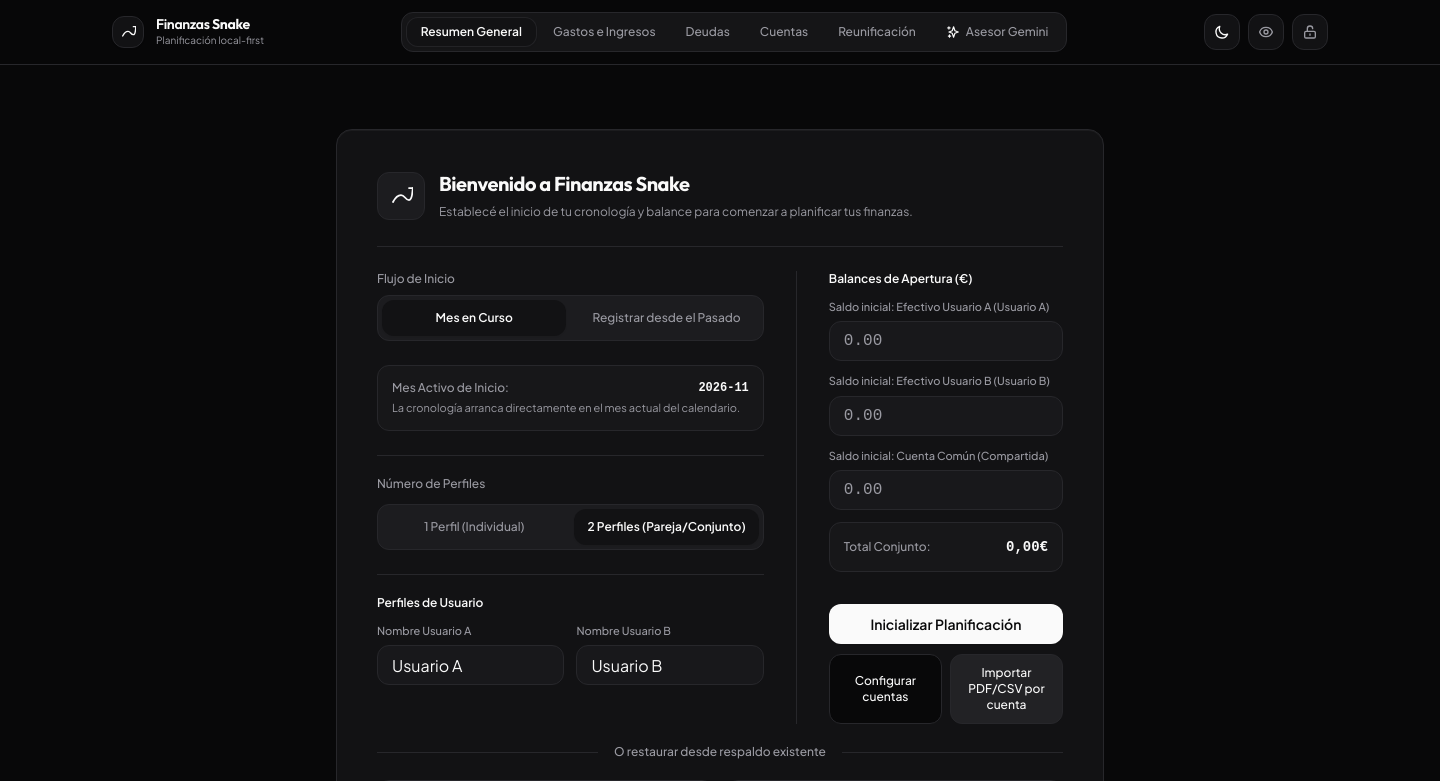
Scenario: configuración del PIN desde la interfaz › debe activar el cifrado conservando los datos que había en memoria
The image size is (1440, 781).
Expected: the heading "Bienvenido a Finanzas Snake" is shown, [439,171,690,196]
Click the button "Inicializar Planificación" at (946,624), box [829,604,1063,644]
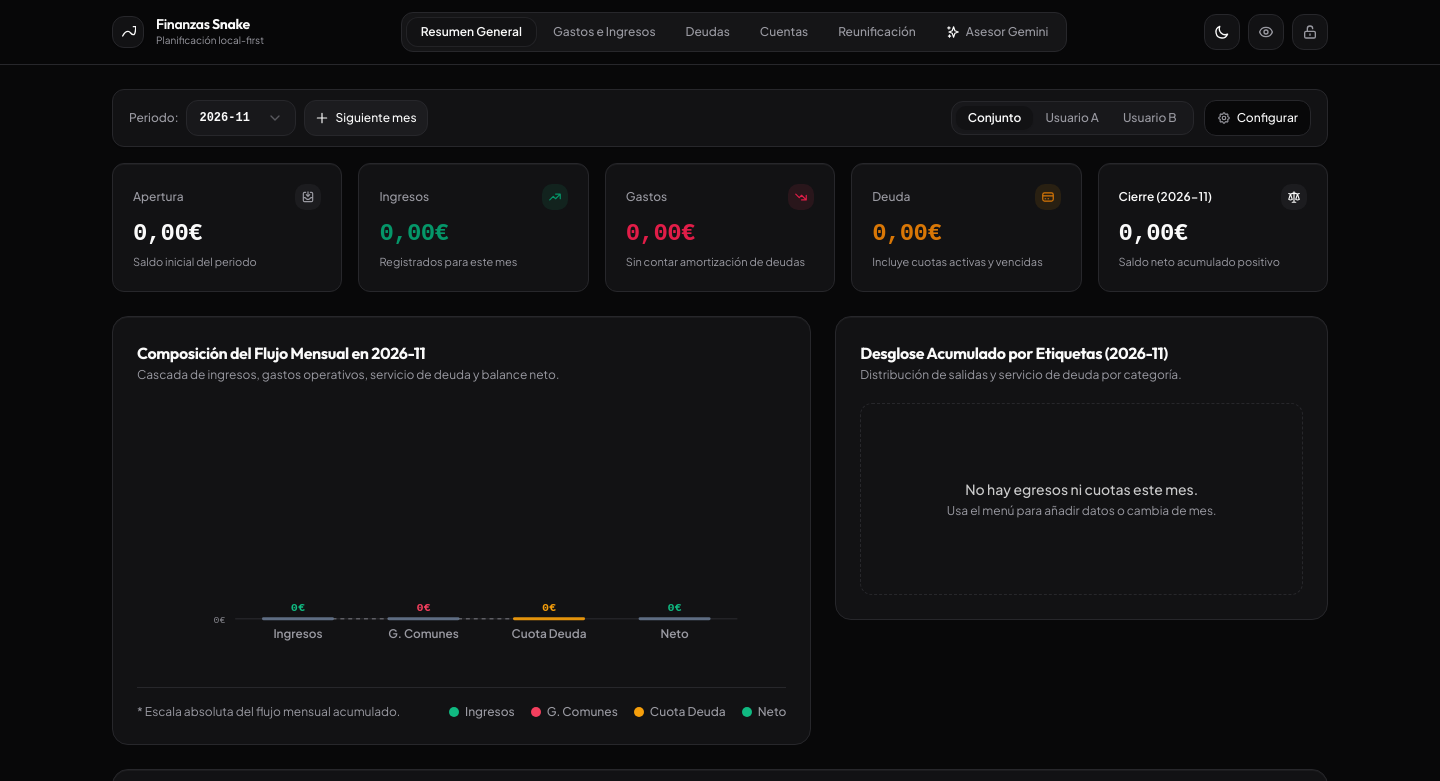
Click the button named "Configurar PIN de Seguridad" at (1310,32), box [1292,14,1328,50]
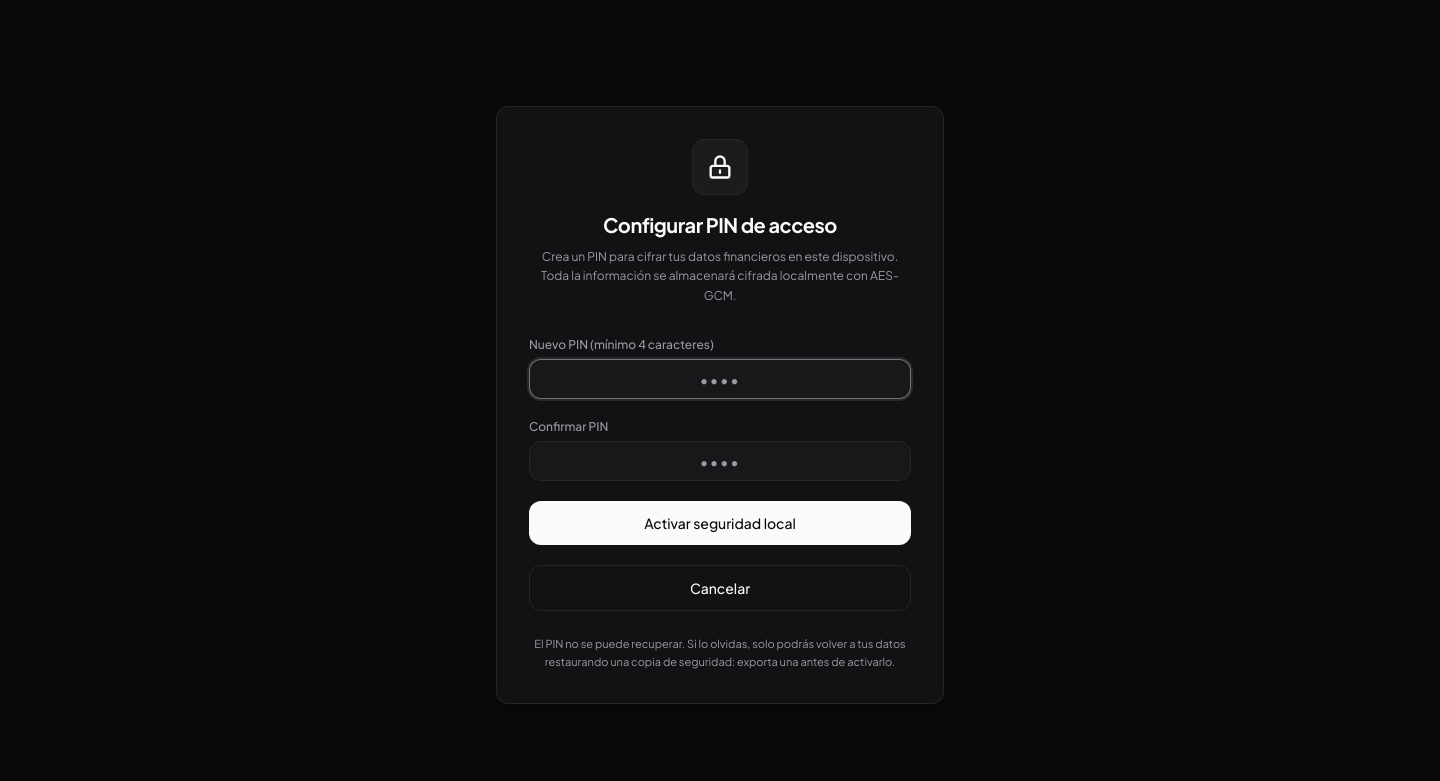
Type "1234" into the password field labelled "Nuevo PIN (mínimo 4 caracteres)" at (720,379), box [529,359,911,399]
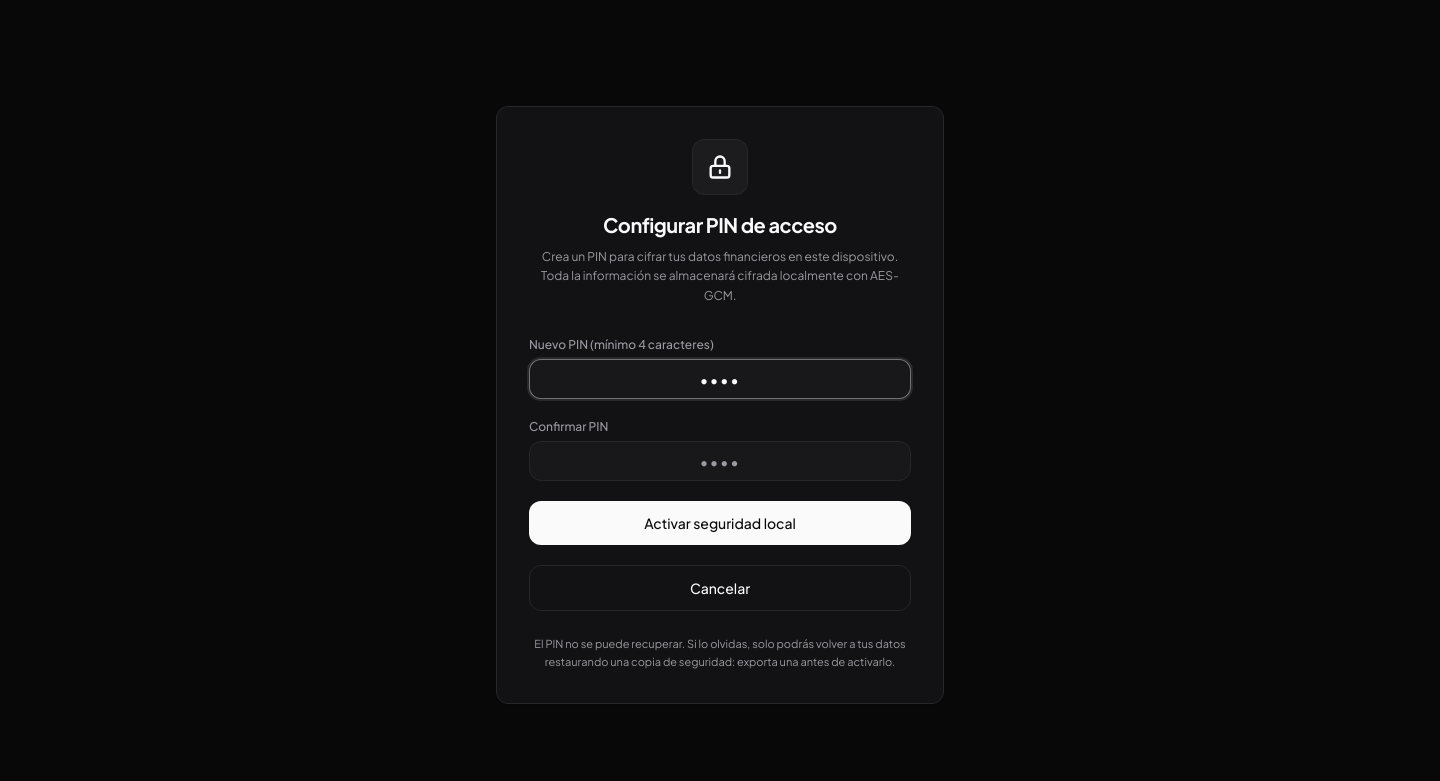
Type "1234" into the password field labelled "Confirmar PIN" at (720,461), box [529,441,911,481]
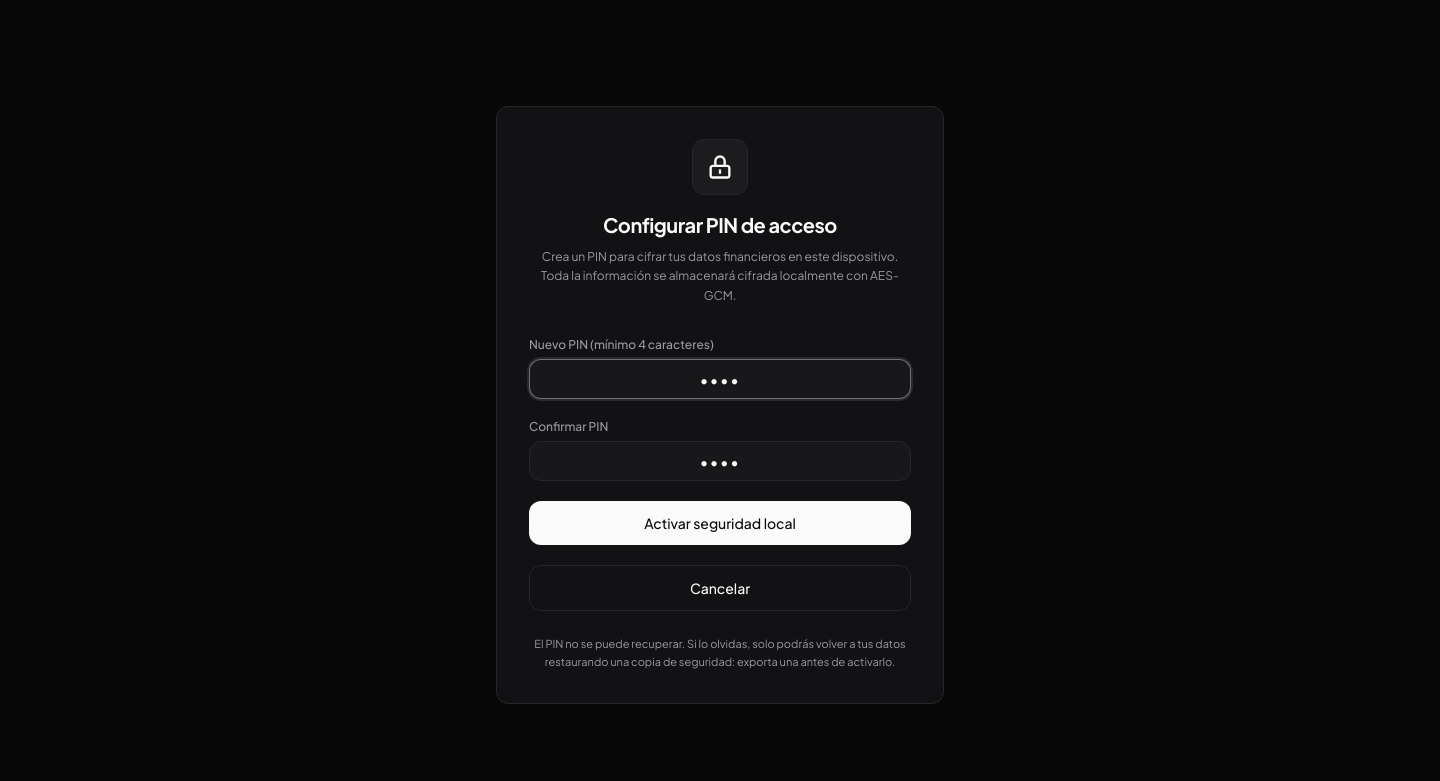
Click the button "Activar seguridad local" at (720,523), box [529,501,911,545]
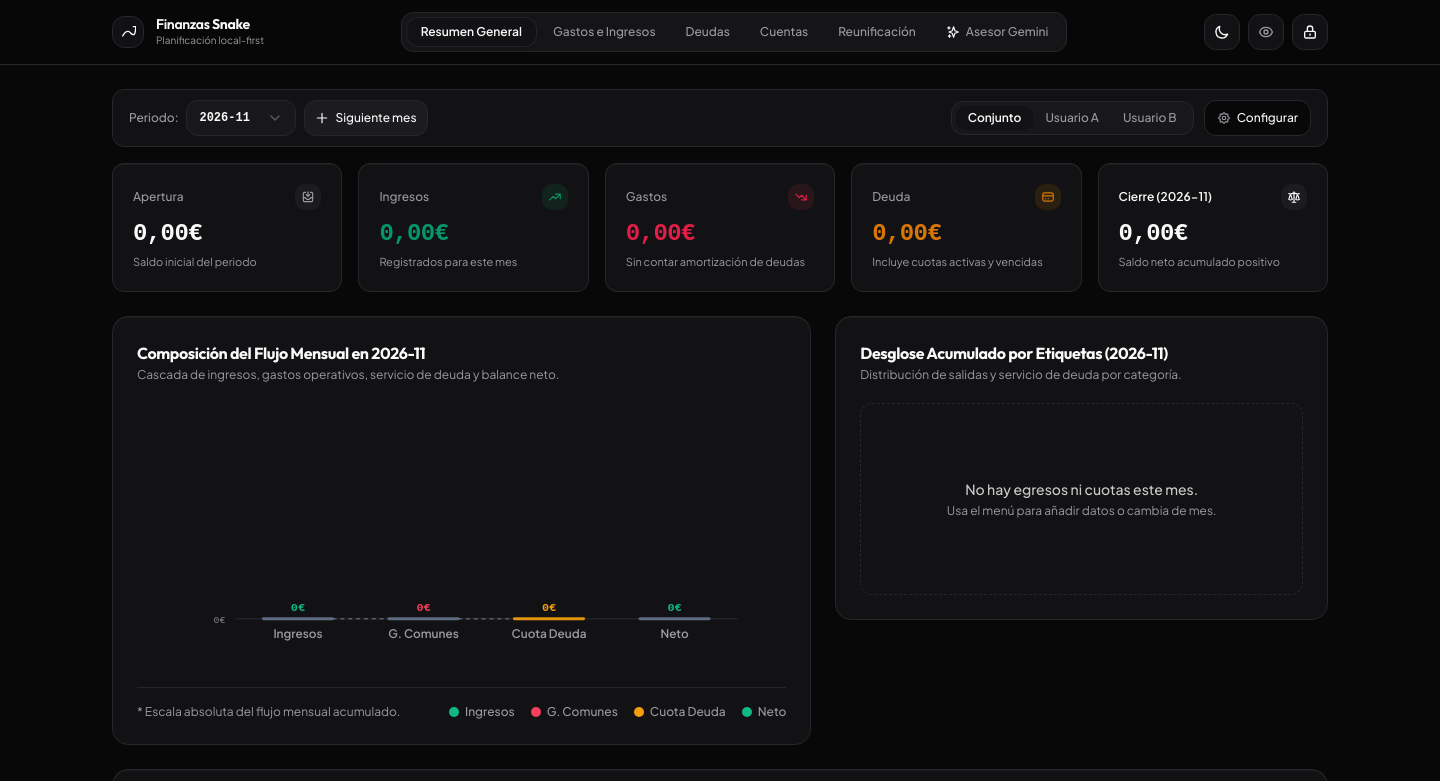
Expected: the heading "Bienvenido a Finanzas Snake" is not shown
Expected: the button named "Bloquear Aplicación" is shown, [1292,14,1328,50]
